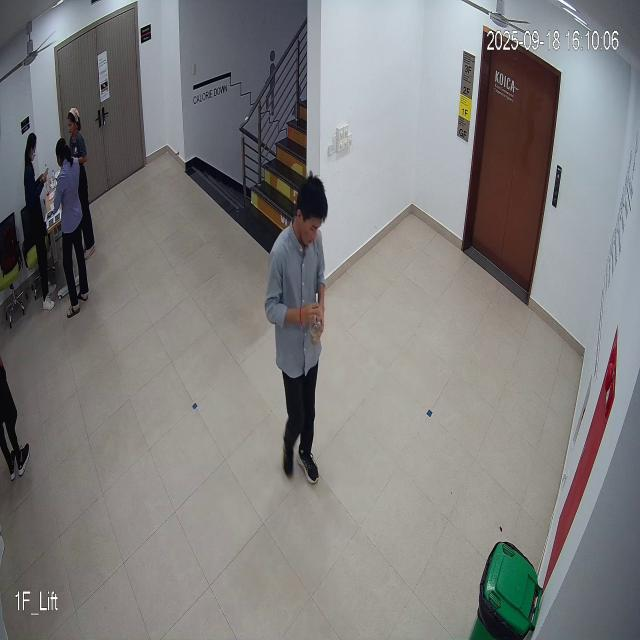face: (293, 172, 327, 250)
